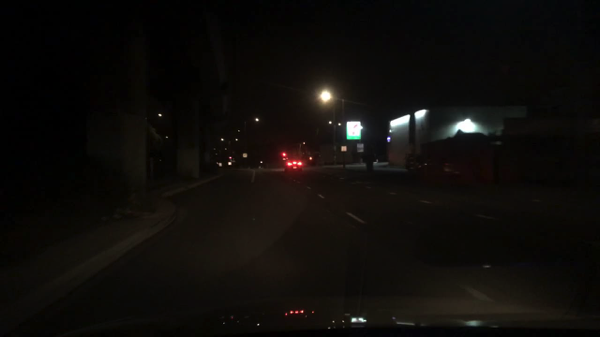car: (413, 153, 497, 191), (283, 158, 305, 173)
traffic light: (281, 151, 286, 158), (308, 156, 313, 162)
traffic sign: (357, 143, 364, 153), (340, 146, 348, 153), (242, 153, 248, 159), (218, 162, 223, 168), (227, 161, 232, 166)
